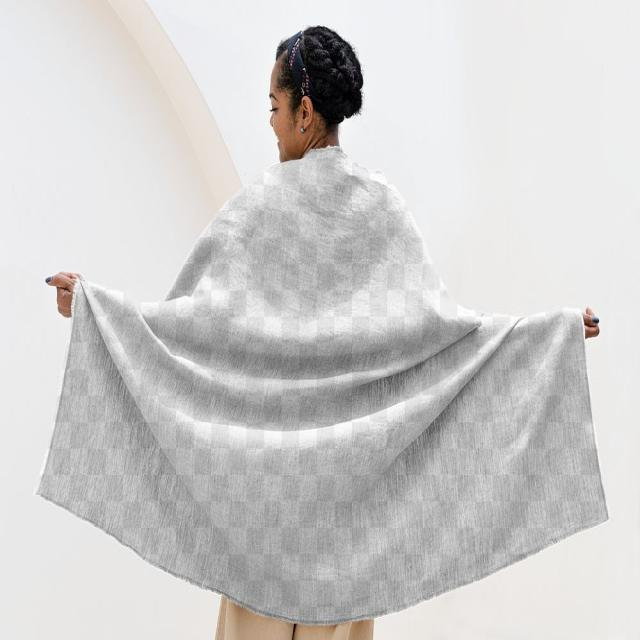blanket: (39, 149, 607, 625)
